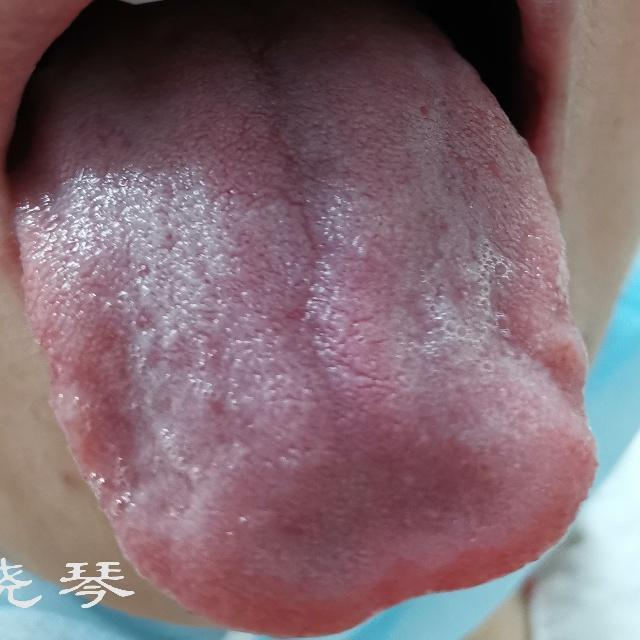baitaishe: (12, 33, 598, 640)
zishe: (12, 33, 598, 640)
